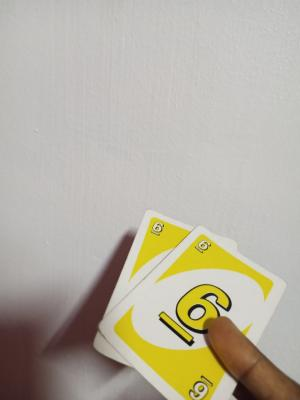num_6: (148, 284, 259, 339)
yellow: (182, 239, 226, 275), (147, 221, 170, 285)
